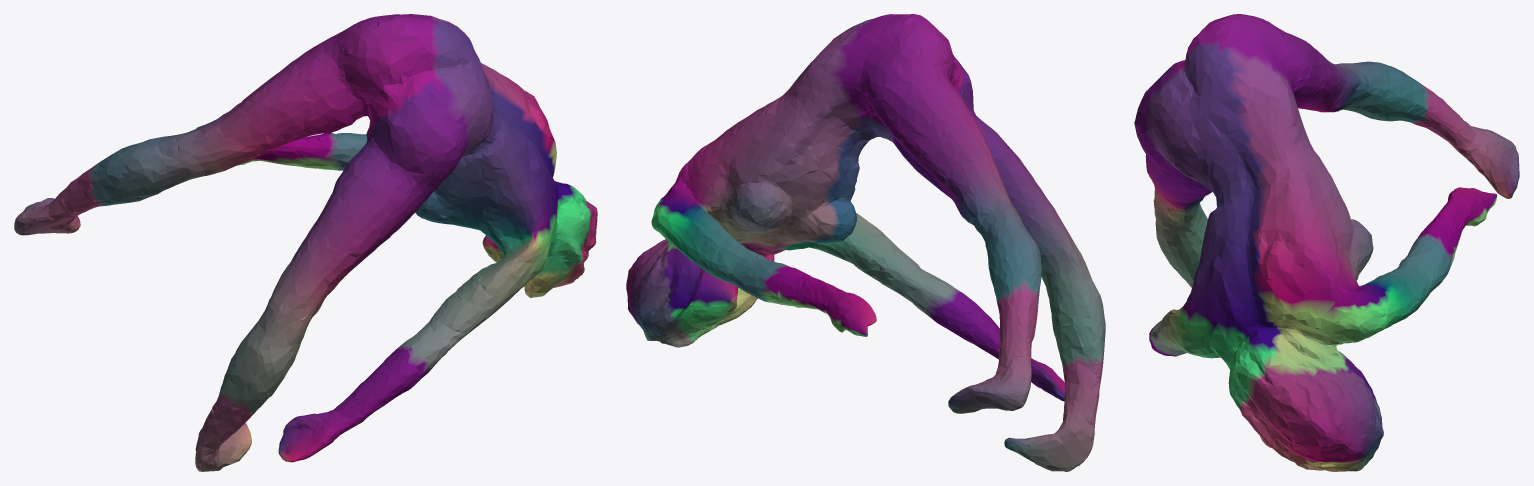
File: woman-7.off.obj
3 renders of one model, left to right at view 1: azimuth 30°, elevation 25°; view 2: azimuth 150°, elevation 25°; view 3: azimuth 270°, elevation 25°, orthographic. The views are drawn at different scales.
Size of the model in its own units: 1.37 by 1.11 by 0.9042.
